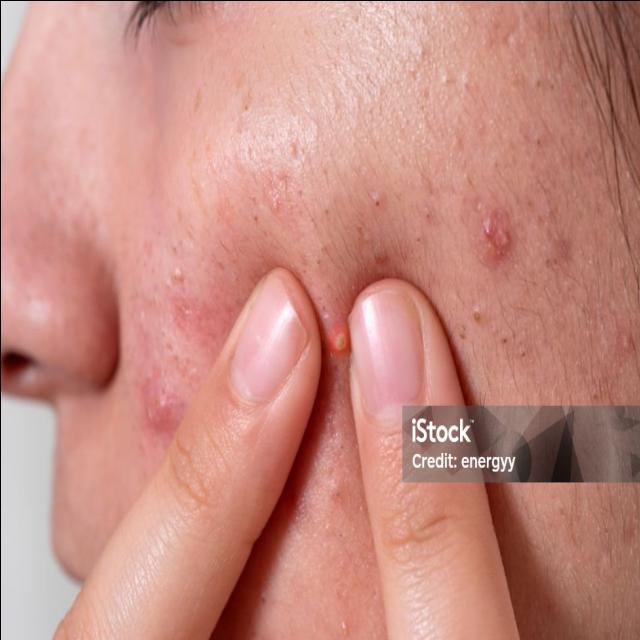blackhead: (367, 182, 547, 380)
papule: (475, 203, 523, 267), (141, 376, 180, 437)
pustule: (331, 320, 348, 361)
